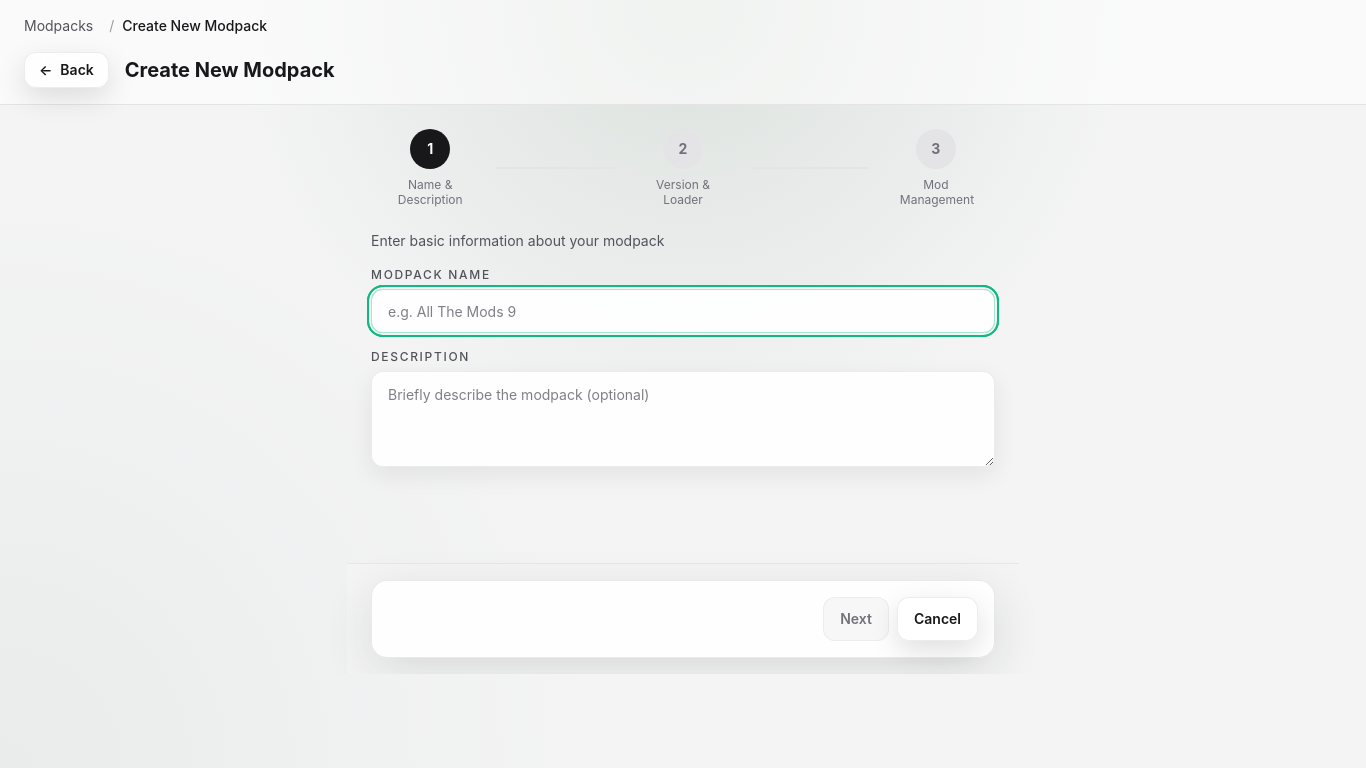
it: ModpackCreationWizard explainability › keeps the generic create error as the fallback when the runtime summary has no actionable cause
The width and height of the screenshot is (1366, 768).
Type "Fallback Pack" into the field labelled "Modpack name" at point(683, 311), box [371, 289, 995, 333]
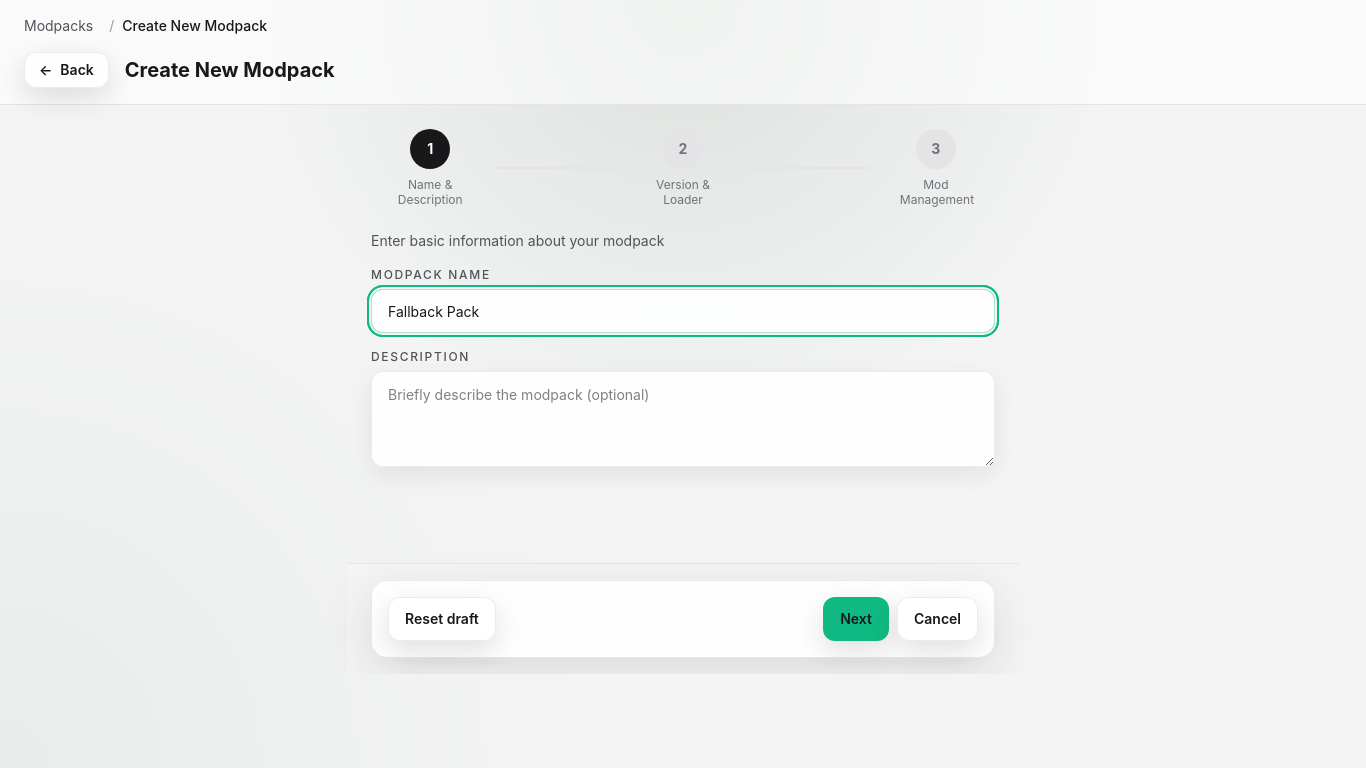
Click the button "Next" at point(856, 619), box [823, 597, 889, 641]
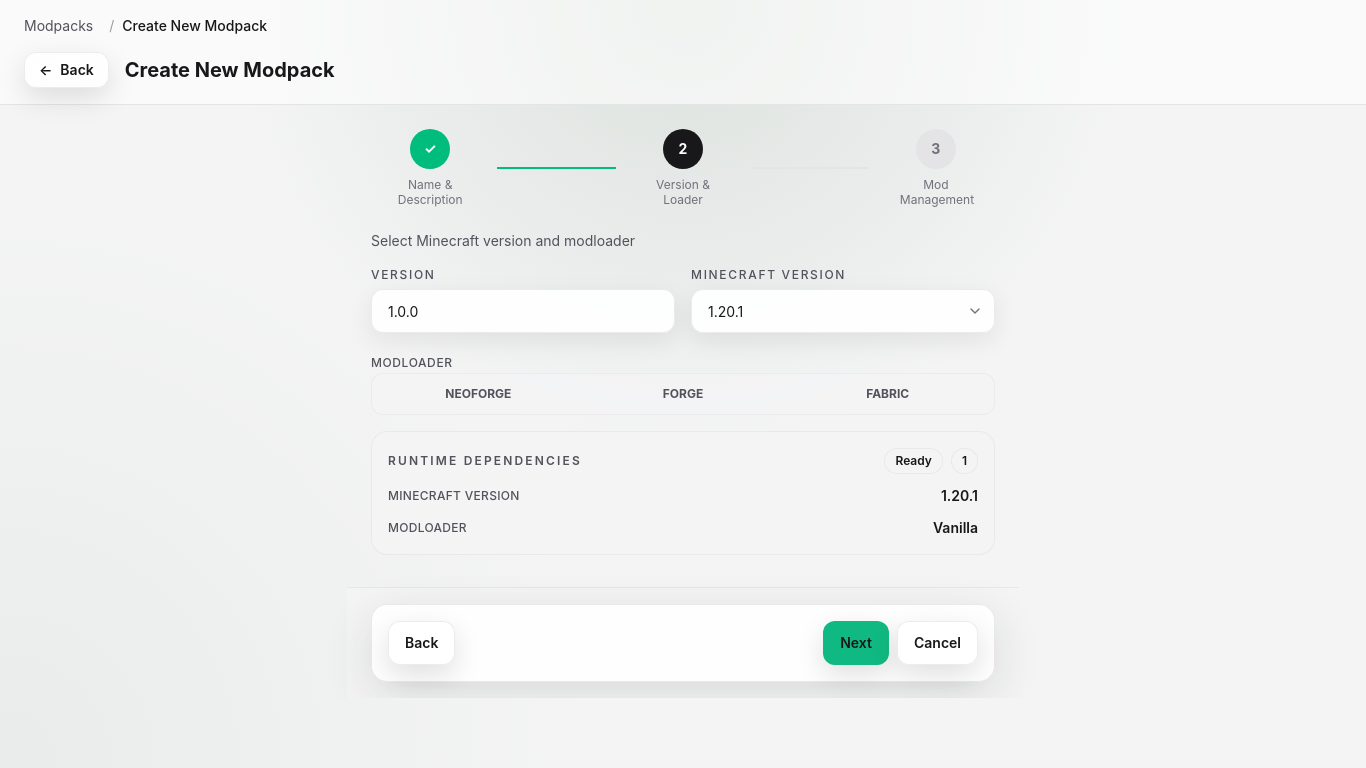
Click the button "Next" at point(856, 643), box [823, 621, 889, 665]
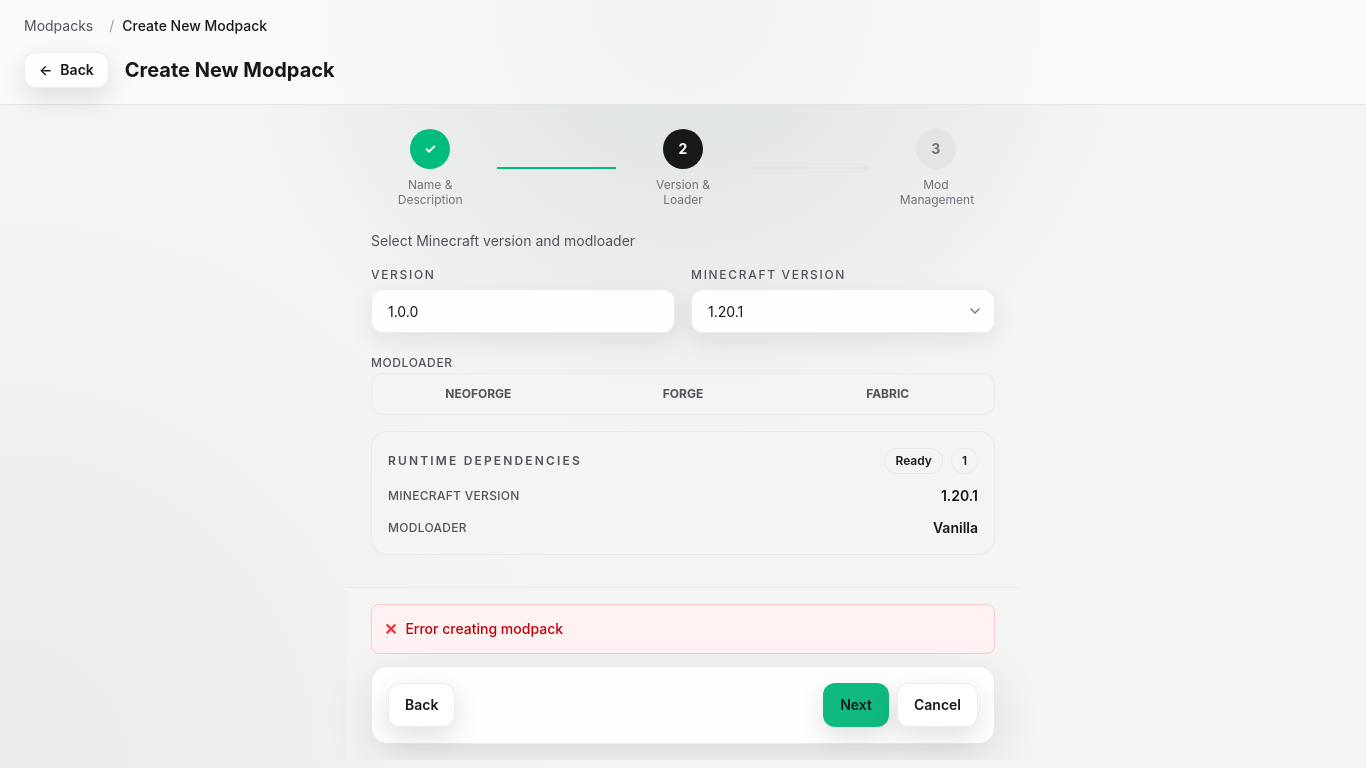
Expected: the message shows "Error creating modpack", [405, 620, 563, 637]
